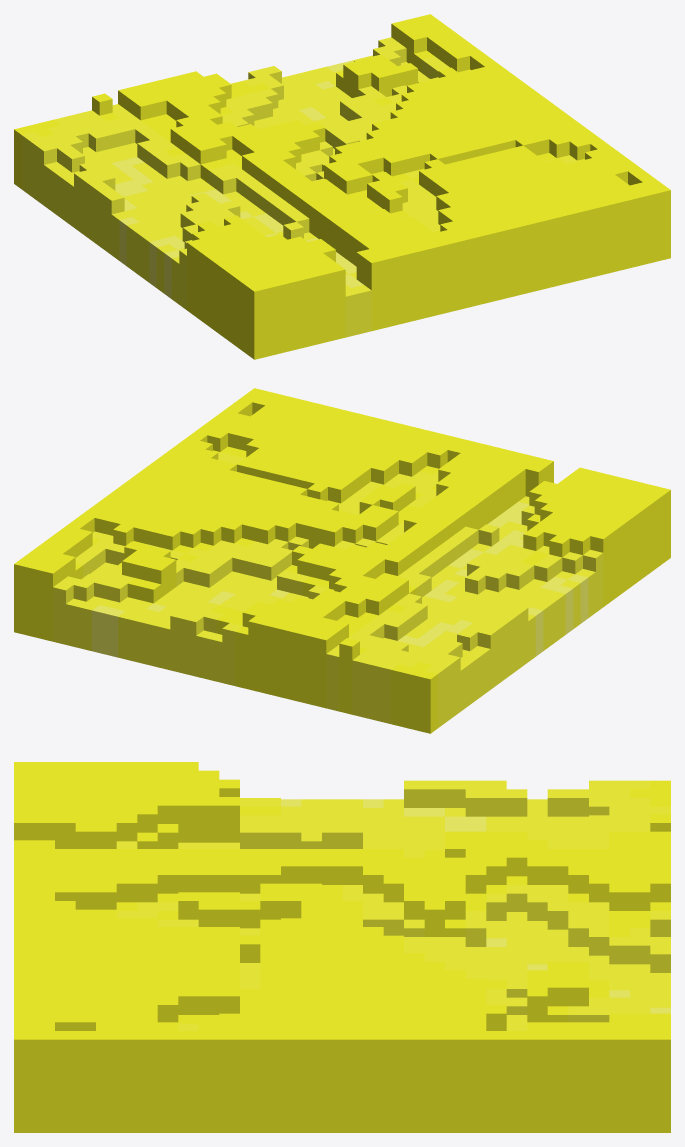
Rendered from Destert Map-17.obj.
3 renders of one model, top to bottom at view 1: azimuth 30°, elevation 25°; view 2: azimuth 150°, elevation 25°; view 3: azimuth 270°, elevation 25°, orthographic. The views are drawn at different scales.
Size of the model in its own units: 3.2 by 0.5 by 3.2.
1 material, 1 textured.
